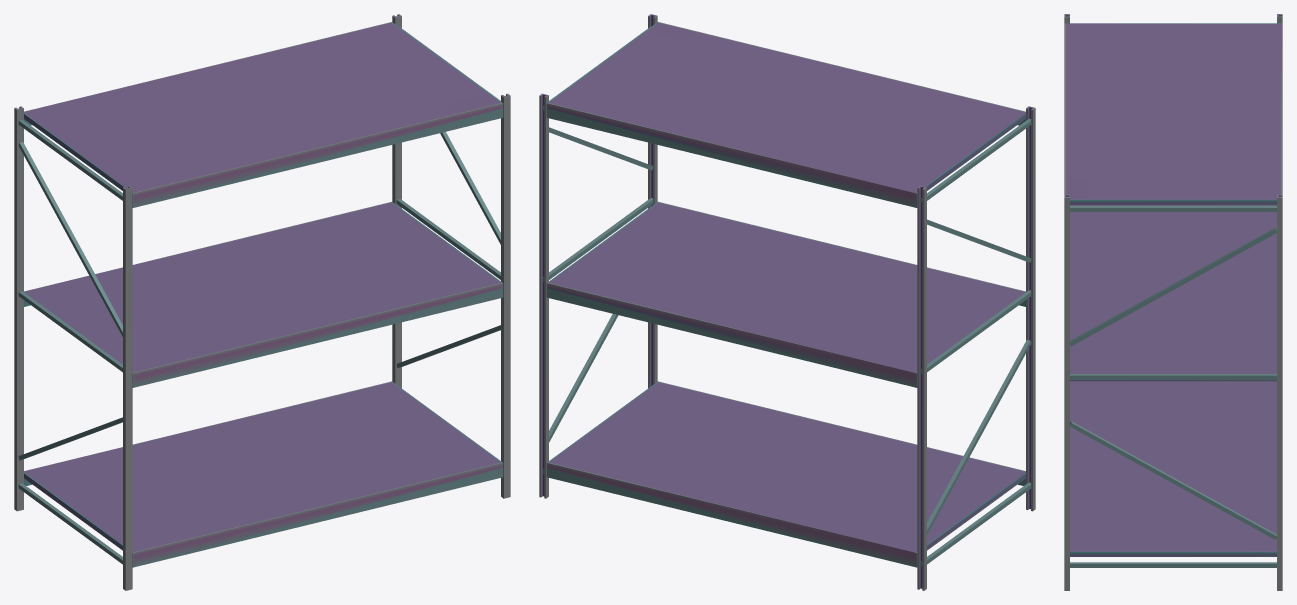
File: simready-rack_bulk_storage_a03.glb
The picture shows the model from 3 angles, left to right: view 1: azimuth 30°, elevation 25°; view 2: azimuth 150°, elevation 25°; view 3: azimuth 270°, elevation 25°; orthographic projection. The views are drawn at different scales.
Parts seen in each view (by area): view 1: deck.002, deck, deck.001, upright.003, upright.001, upright.002, upper_brace.001, upright, tie.001, tie.003, tie.004, tie.005 (+1 smaller); view 2: deck.002, deck, deck.001, upright.002, upright, upright.003, lower_brace.001, upright.001, lower_brace, tie.003, tie.001, tie.004 (+1 smaller); view 3: deck.002, deck, deck.001, upright, upright.001, upper_brace, lower_brace, tie, tie.001, tie.002.
Boxes of the visible parts, left/top/right/bottom form: deck.002: left=24, top=22, right=503, bottom=207; deck: left=24, top=381, right=503, bottom=567; deck.001: left=24, top=201, right=503, bottom=387; upright.003: left=123, top=186, right=132, bottom=590; upright.001: left=501, top=93, right=510, bottom=498; upright.002: left=14, top=106, right=23, bottom=511; upper_brace.001: left=18, top=142, right=122, bottom=336; upright: left=392, top=14, right=401, bottom=388; tie.001: left=396, top=199, right=500, bottom=279; tie.003: left=18, top=483, right=122, bottom=564; tie.004: left=18, top=291, right=122, bottom=372; tie.005: left=18, top=119, right=122, bottom=200; deck.002: left=546, top=22, right=1025, bottom=207; deck: left=546, top=381, right=1025, bottom=567; deck.001: left=546, top=201, right=1025, bottom=387; upright.002: left=917, top=186, right=926, bottom=590; upright: left=539, top=93, right=548, bottom=498; upright.003: left=1026, top=106, right=1035, bottom=511; lower_brace.001: left=927, top=340, right=1031, bottom=534; upright.001: left=648, top=14, right=657, bottom=388; lower_brace: left=549, top=314, right=618, bottom=442; tie.003: left=920, top=482, right=1031, bottom=566; tie.001: left=542, top=198, right=653, bottom=281; tie.004: left=920, top=290, right=1031, bottom=373; deck.002: left=1064, top=23, right=1282, bottom=204; deck: left=1070, top=381, right=1276, bottom=556; deck.001: left=1070, top=205, right=1276, bottom=381; upright: left=1277, top=194, right=1282, bottom=590; upright.001: left=1064, top=194, right=1069, bottom=590; upper_brace: left=1070, top=227, right=1276, bottom=346; lower_brace: left=1070, top=421, right=1276, bottom=539; tie: left=1070, top=562, right=1276, bottom=567; tie.001: left=1070, top=374, right=1276, bottom=379; tie.002: left=1070, top=206, right=1276, bottom=211.
Size of the model in its own units: 2.44 by 2.44 by 1.23.
